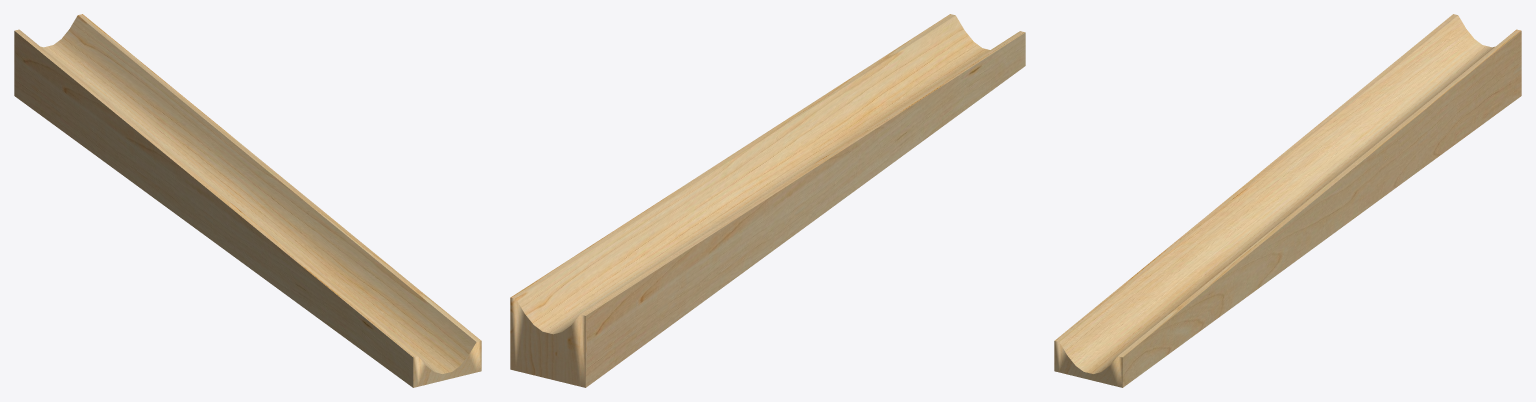
The model's file is woodrollingthing.fbx.
3 views of the same model, side by side, from view 1: azimuth 30°, elevation 25°; view 2: azimuth 150°, elevation 25°; view 3: azimuth 330°, elevation 25° (orthographic). The views are drawn at different scales.
Visible parts, largest first — view 1: Cube; view 2: Cube; view 3: Cube.
Boxes of the visible parts, bbox=[...] form: Cube: bbox=[14, 14, 481, 387]; Cube: bbox=[510, 14, 1025, 387]; Cube: bbox=[1054, 14, 1521, 387].
Size of the model in its own units: 234 by 214 by 2370.
